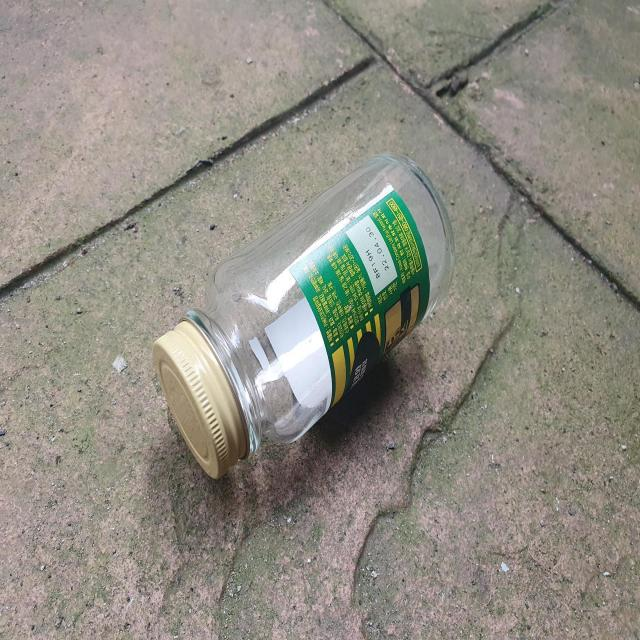glass: (153, 154, 455, 479)
